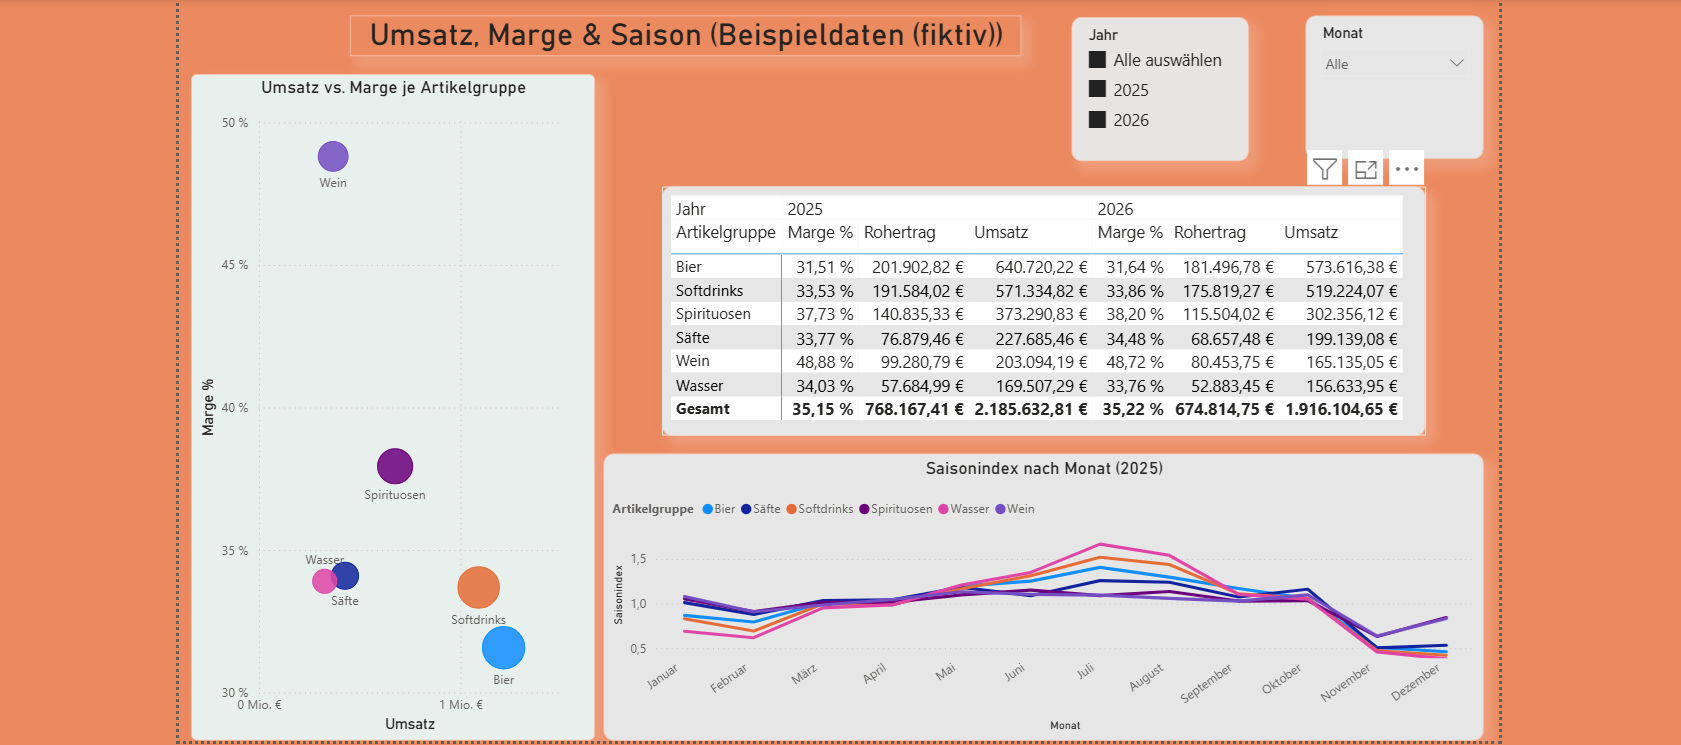

What the dashboard file says about the page in this screenshot:
{"tool":"powerbi","page":{"name":"Sortiment & Saison","canvas":[1280,720],"ordinal":1},"visuals":[{"type":"scatterChart","title":"Umsatz vs. Marge je Artikelgruppe","fields":{"Category":["Artikel.Artikelgruppe"],"X":["_Measures.Umsatz"],"Series":["Artikel.Artikelgruppe"],"Size":["_Measures.Rohertrag"],"Y":["_Measures.Marge %"]},"box":[12.1,72.7,392.2,646.6],"z":0},{"type":"slicer","fields":{"Values":["Datum.Jahr"]},"box":[865.5,17,172,139.8],"z":1000},{"type":"slicer","fields":{"Values":["Datum.Monat"]},"box":[1093.3,16.7,172.6,139.3],"z":2000},{"type":"pivotTable","fields":{"Rows":["Artikel.Artikelgruppe"],"Values":["_Measures.Marge %","_Measures.Rohertrag","_Measures.Umsatz"],"Columns":["Datum.Datum.Variation.Datumshierarchie.Jahr"]},"box":[469.4,181.7,740.4,242.3],"z":4000},{"type":"lineChart","title":"Saisonindex nach Monat (2025)","fields":{"Category":["Datum.Monat"],"Y":["_Measures.Saisonindex"],"Series":["Artikel.Artikelgruppe"]},"box":[411.9,440.6,854,278.6],"z":5000},{"type":"actionButton","title":"Umsatz, Marge & Saison (Beispieldaten (fiktiv))","box":[166.6,16.7,651.1,39.4],"z":6000}]}

Visuals, with their boxes on the page's 1280x720 design canvas (x1, y1, x2, y2). These are canvas units, not pixel positions in the 1681x745 screenshot, which may show the page scaled, cropped or inside an application window:
"Umsatz vs. Marge je Artikelgruppe" scatterChart: locate(12, 73, 404, 719)
slicer - Datum.Jahr: locate(866, 17, 1038, 157)
slicer - Datum.Monat: locate(1093, 17, 1266, 156)
pivotTable - Artikel.Artikelgruppe x _Measures.Marge %: locate(469, 182, 1210, 424)
"Saisonindex nach Monat (2025)" lineChart: locate(412, 441, 1266, 719)
"Umsatz, Marge & Saison (Beispieldaten (fiktiv))" actionButton: locate(167, 17, 818, 56)
